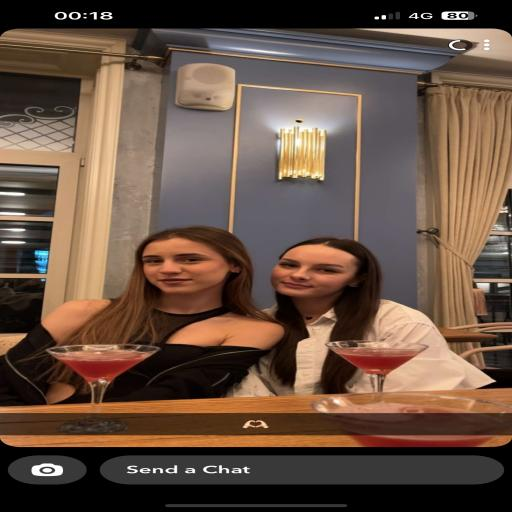marija: (274, 234, 414, 316)
masa: (90, 225, 250, 306)
